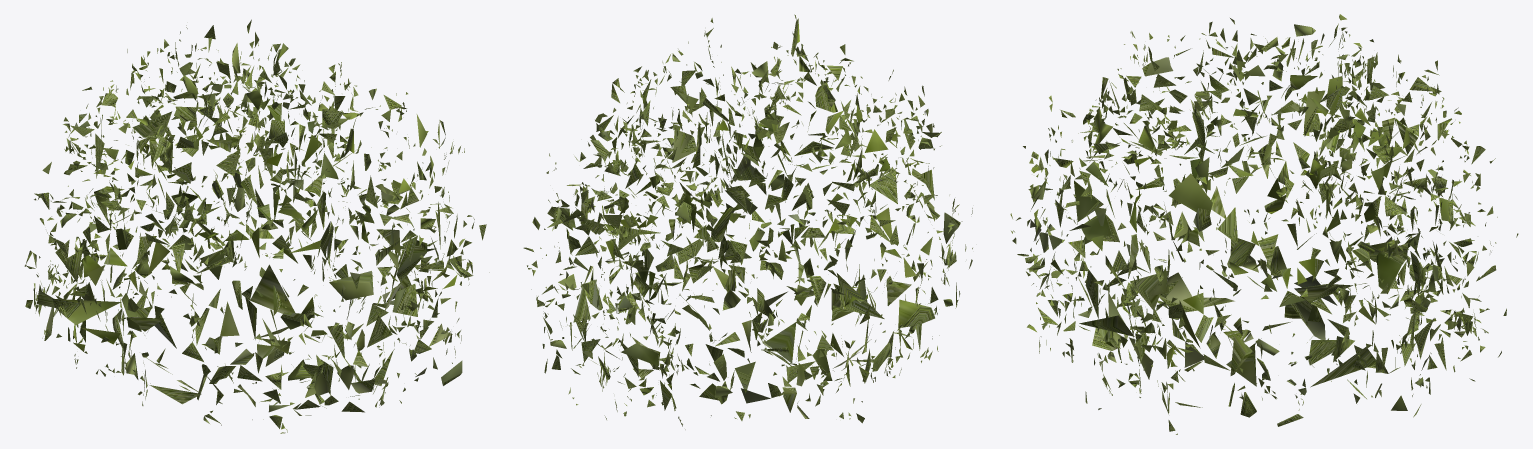
Rendered from bush_round.glb.
The picture shows the model from 3 angles, left to right: view 1: azimuth 30°, elevation 25°; view 2: azimuth 150°, elevation 25°; view 3: azimuth 270°, elevation 25°; orthographic projection. The views are drawn at different scales.
Size of the model in its own units: 0.9603 by 0.6882 by 0.99.
1 material, 1 textured.
